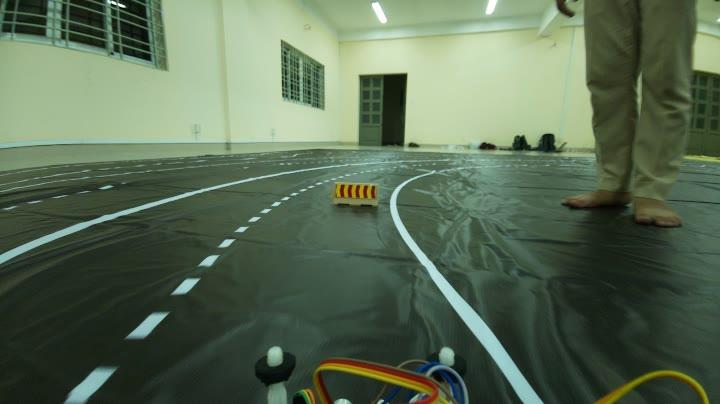roadblock: (330, 178, 380, 210)
